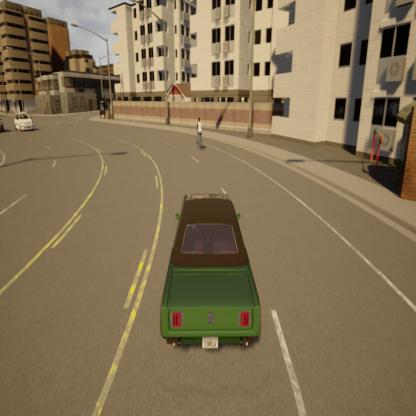Cars: (146, 185, 268, 360), (14, 108, 38, 132), (0, 114, 8, 137)
